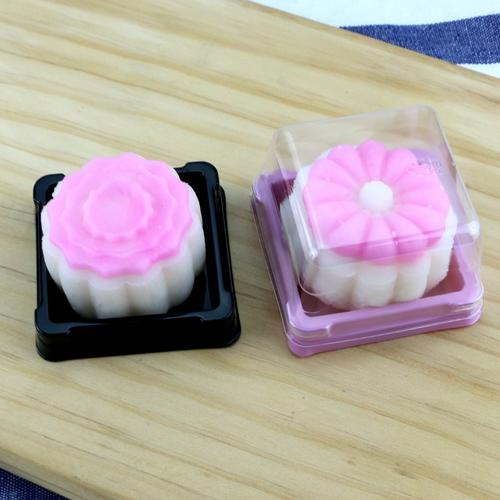MoonCake: (279, 139, 457, 307), (41, 151, 207, 319)
